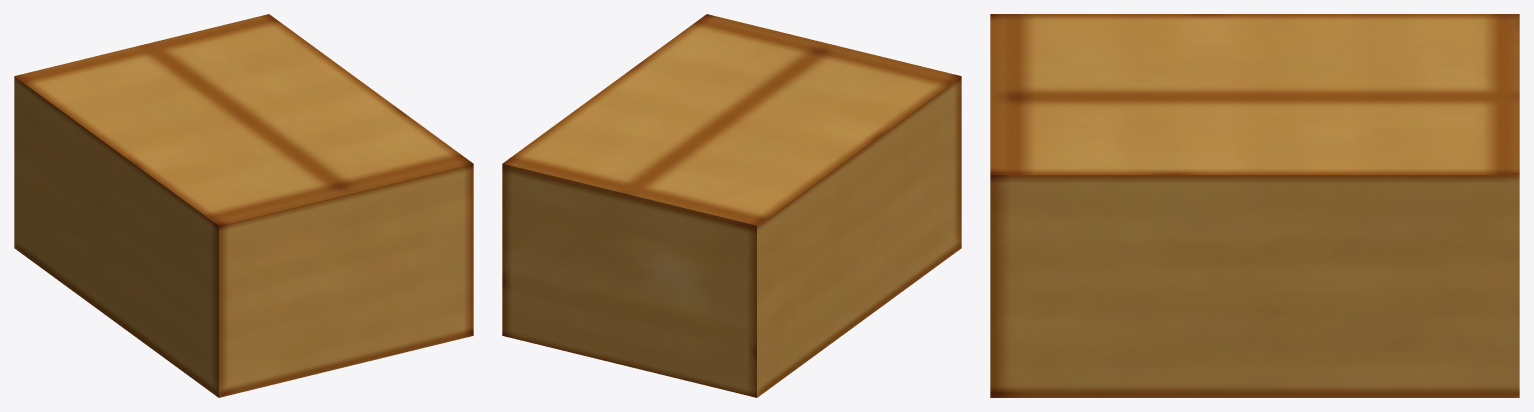
Rendered from Seal_carton.fbx.
The picture shows the model from 3 angles, left to right: view 1: azimuth 30°, elevation 25°; view 2: azimuth 150°, elevation 25°; view 3: azimuth 270°, elevation 25°; orthographic projection. The views are drawn at different scales.
Parts seen in each view (by area): view 1: Carton_seal; view 2: Carton_seal; view 3: Carton_seal.
Part boxes in pixels (box(x1,y1,x2,y2)): Carton_seal: box(14, 14, 473, 397); Carton_seal: box(502, 14, 961, 397); Carton_seal: box(990, 14, 1519, 397).
Size of the model in its own units: 18.11 by 11.69 by 25.17.
